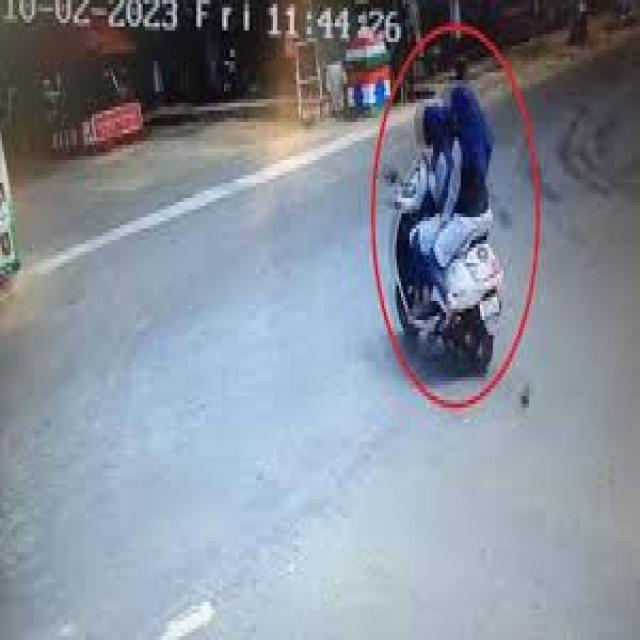Triple_riding: (388, 76, 492, 314)
